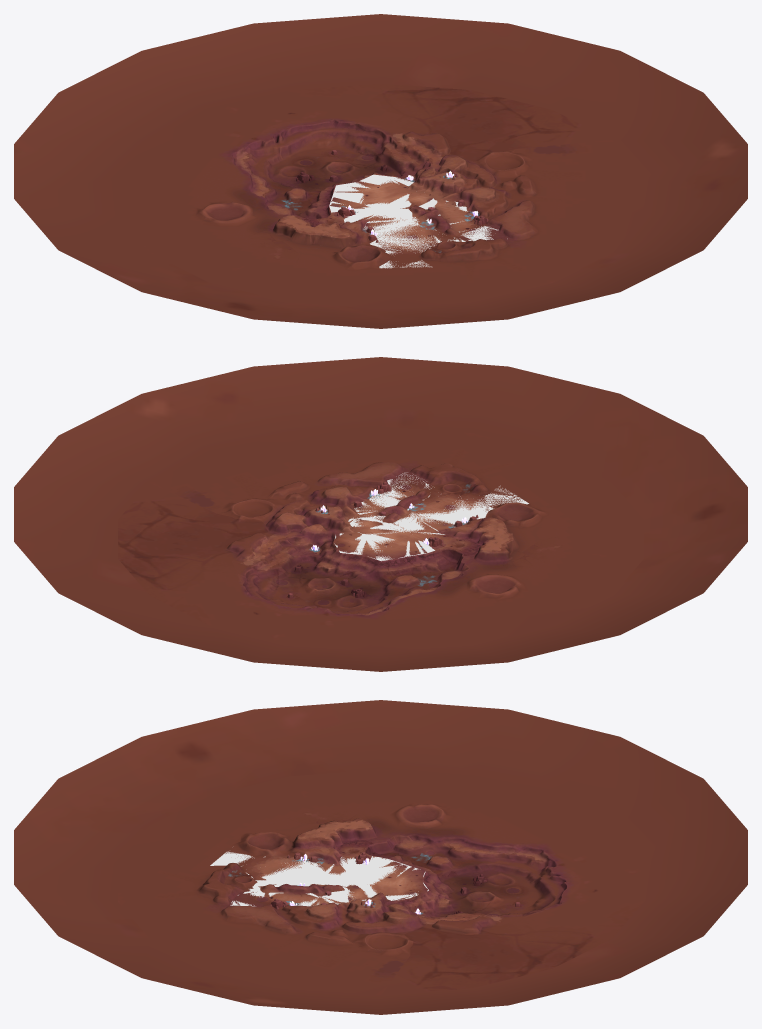
The model's file is Terrain.fbx.
3 renders of one model, top to bottom at view 1: azimuth 30°, elevation 25°; view 2: azimuth 150°, elevation 25°; view 3: azimuth 270°, elevation 25°, orthographic.
Visible parts, largest first — view 1: floor, floorcollide; view 2: floor, floorcollide; view 3: floor, floorcollide.
Part boxes in pixels (left/top/right/bottom): floor: left=14, top=14, right=747, bottom=328; floorcollide: left=329, top=174, right=507, bottom=268; floor: left=14, top=357, right=747, bottom=671; floorcollide: left=334, top=472, right=528, bottom=561; floor: left=14, top=700, right=747, bottom=1014; floorcollide: left=210, top=851, right=428, bottom=906.
Size of the model in its own units: 325 by 19.09 by 320.
Materials: 3 (1 with a texture image).
